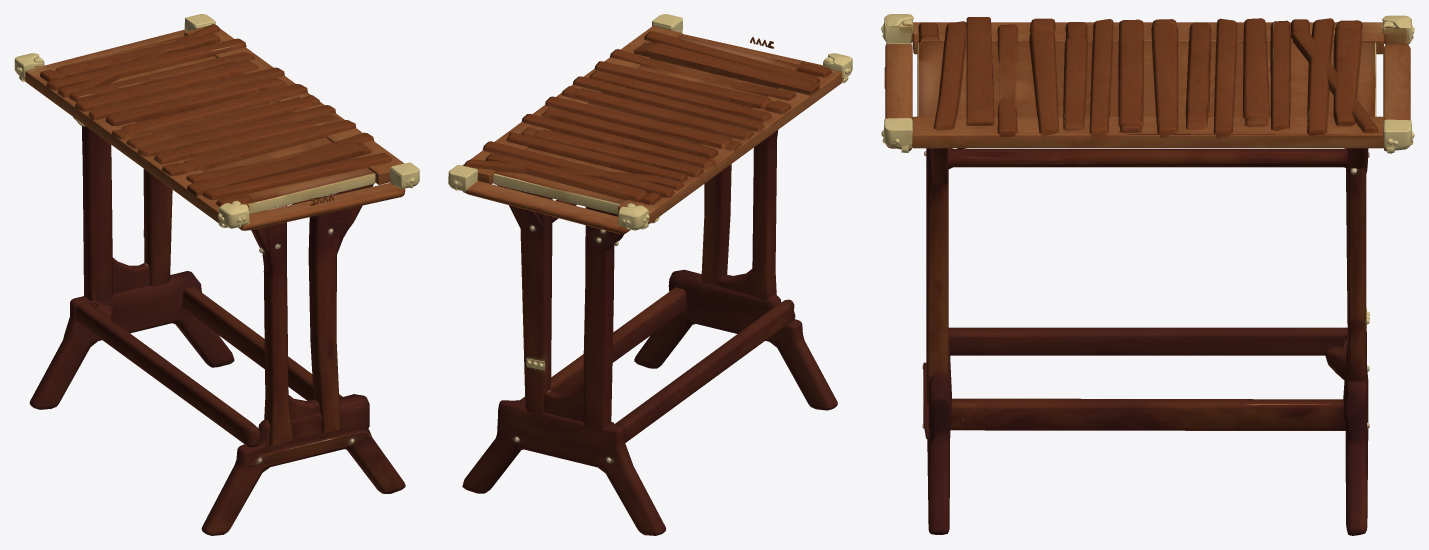
File: luggage-table.glb
3 views of the same model, side by side, from view 1: azimuth 30°, elevation 25°; view 2: azimuth 150°, elevation 25°; view 3: azimuth 270°, elevation 25° (orthographic). The views are drawn at different scales.
Parts seen in each view (by area): view 1: tripo_node_34485539-96e0-455f-a67d-0cc86c314d76; view 2: tripo_node_34485539-96e0-455f-a67d-0cc86c314d76; view 3: tripo_node_34485539-96e0-455f-a67d-0cc86c314d76.
Part boxes in pixels (bbox=[...]): tripo_node_34485539-96e0-455f-a67d-0cc86c314d76: bbox=[14, 14, 419, 535]; tripo_node_34485539-96e0-455f-a67d-0cc86c314d76: bbox=[448, 14, 852, 535]; tripo_node_34485539-96e0-455f-a67d-0cc86c314d76: bbox=[881, 14, 1414, 535].
Bounding box in the file's own units: 0.5239 × 0.8521 × 0.9995.
Materials: 1 (1 with a texture image).
